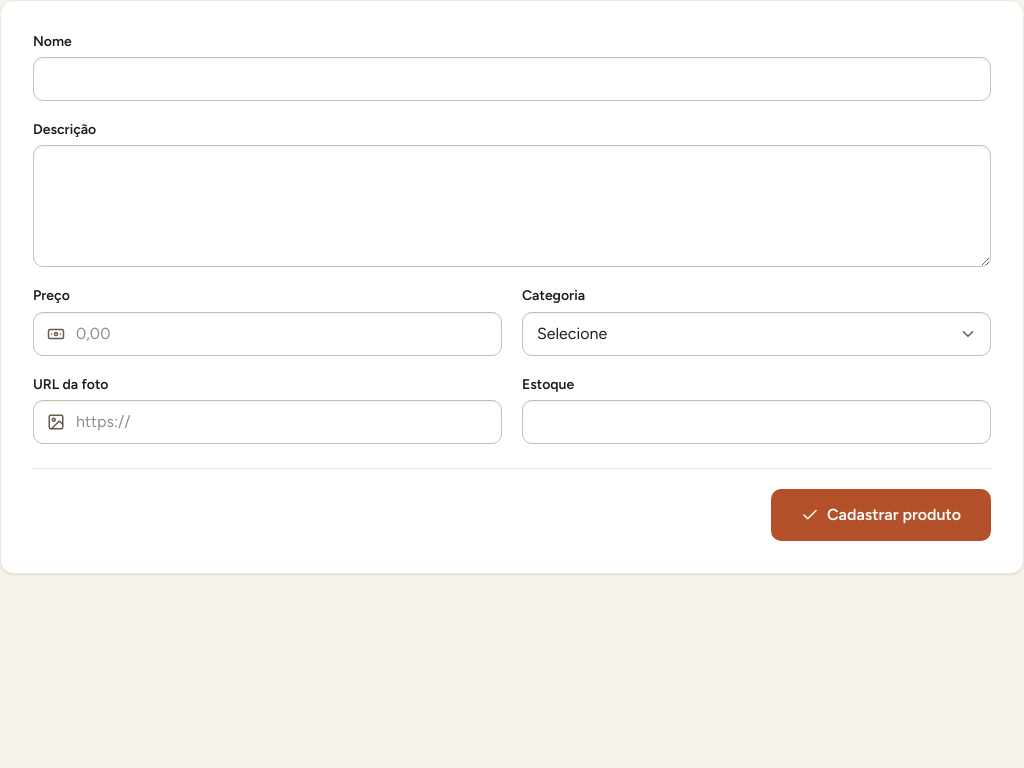
Scenario: ProdutoForm › campos ausentes bloqueiam criacao e mostram erros por campo
The width and height of the screenshot is (1024, 768).
Click the button "Cadastrar produto". click: [881, 515]
box: [771,489,991,541]
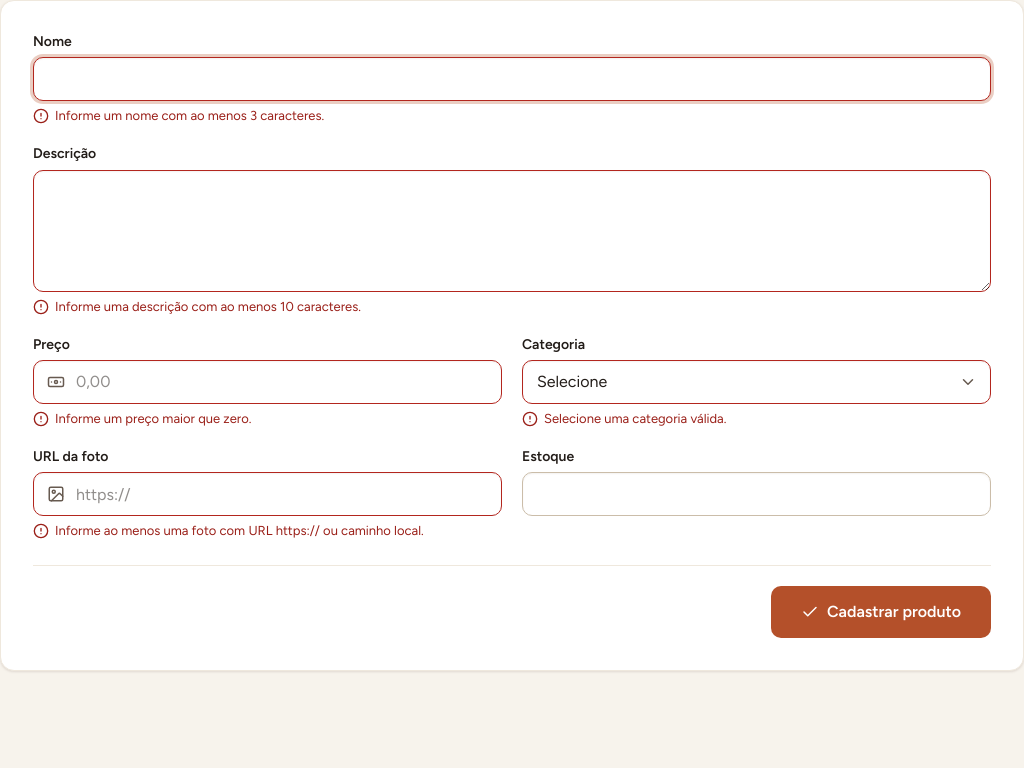
Check: the text "Informe um nome com ao menos 3 caracteres." is shown, box [33,108,324,124]
Check: the text "Informe uma descrição com ao menos 10 caracteres." is shown, box [33,299,361,315]
Check: the text "Informe um preço maior que zero." is shown, box [33,411,251,427]
